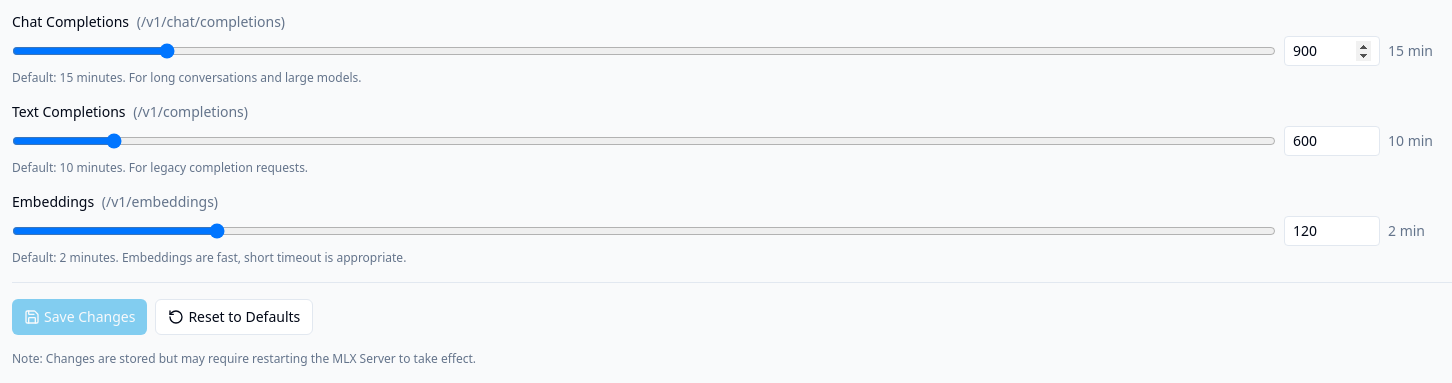
TimeoutSettings › save action › updates currentSettings after successful save
Replace the text in the number field with id "chat-timeout" with "1200". click: (1332, 51)
box: [1284, 36, 1380, 66]
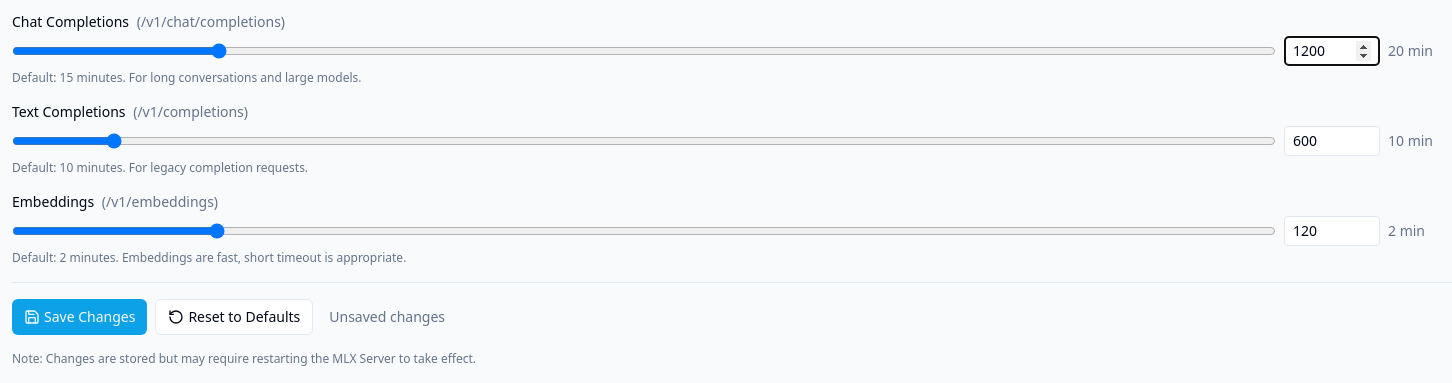
Click the button "Save Changes". click: click(80, 317)
box: [12, 299, 147, 335]
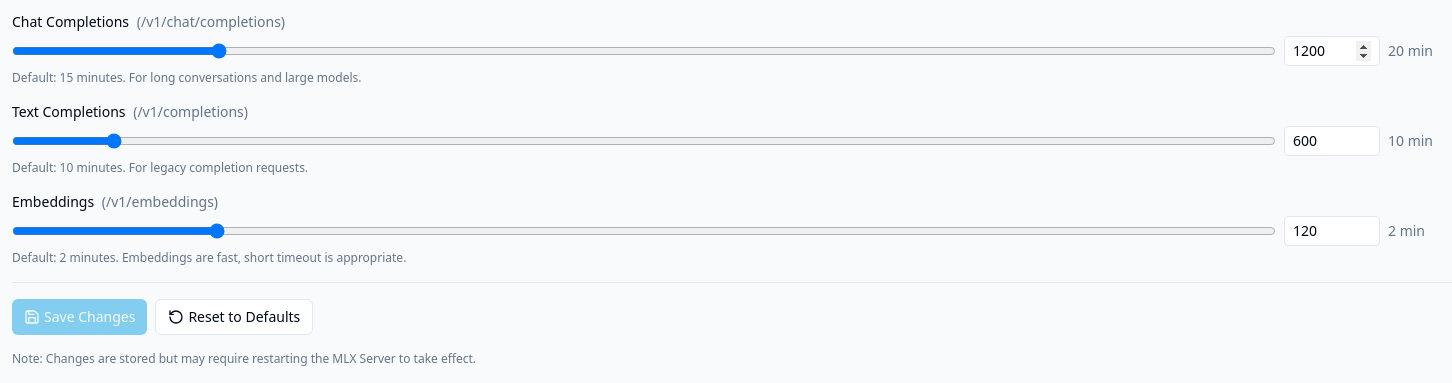
Now the text "Unsaved changes" is gone
